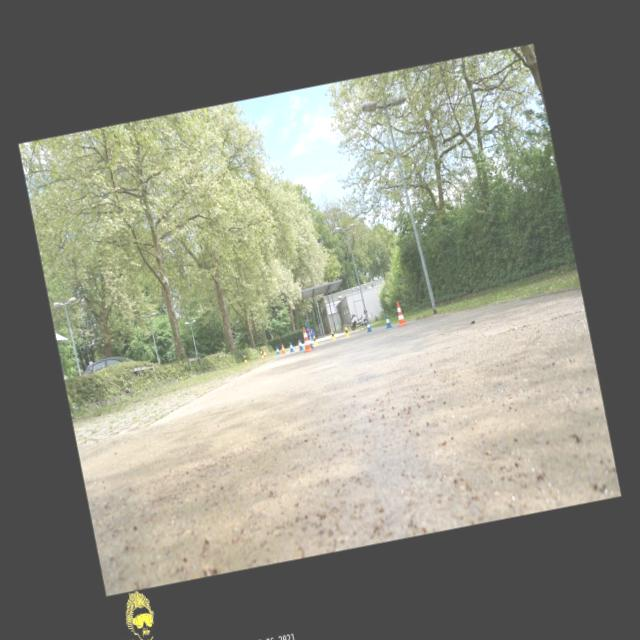blue_cone: (384, 314, 392, 328), (298, 338, 304, 351), (308, 336, 314, 348), (366, 320, 372, 332), (288, 342, 294, 352), (275, 344, 280, 354)
large_orange_cone: (394, 301, 408, 327), (300, 326, 313, 352)
orange_cone: (280, 343, 286, 354), (262, 348, 268, 358), (296, 339, 300, 348)
yellow_cone: (242, 354, 248, 364), (330, 331, 336, 341), (344, 327, 350, 337), (312, 334, 317, 344), (260, 350, 264, 358)
